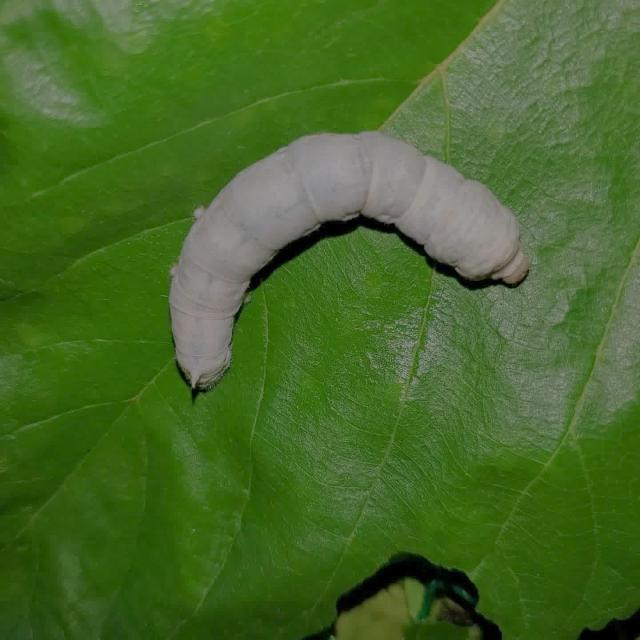Healthy: (157, 108, 540, 403)
